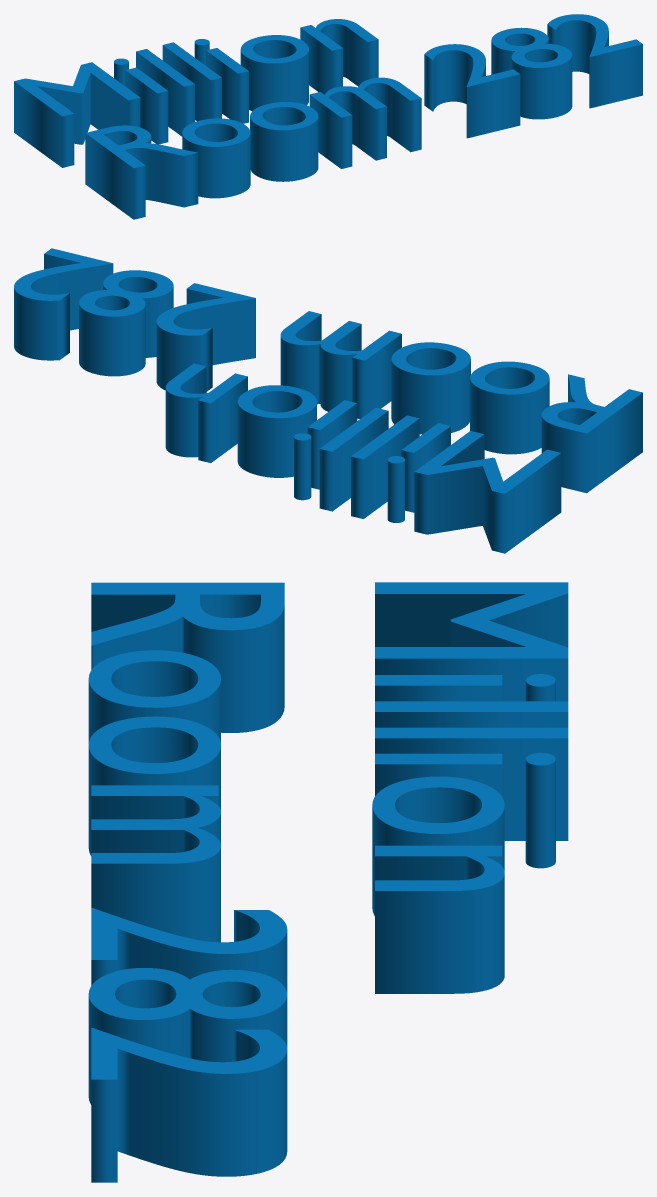
File: million-282.gltf
The picture shows the model from 3 angles, top to bottom: view 1: azimuth 30°, elevation 25°; view 2: azimuth 150°, elevation 25°; view 3: azimuth 270°, elevation 25°; orthographic projection. The views are drawn at different scales.
Visible parts, largest first — view 1: Text; view 2: Text; view 3: Text.
Part boxes in pixels (left/top/right/bottom): Text: left=14, top=14, right=642, bottom=219; Text: left=14, top=248, right=642, bottom=553; Text: left=88, top=582, right=568, bottom=1182.
Size of the model in its own units: 4.15 by 0.4 by 1.69.
